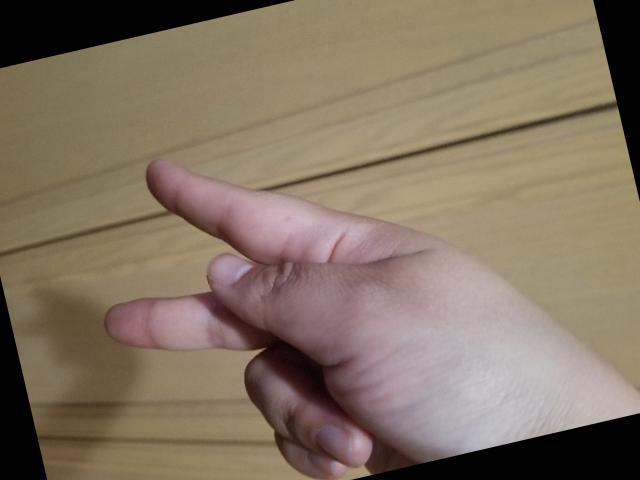P: (63, 71, 592, 480)
